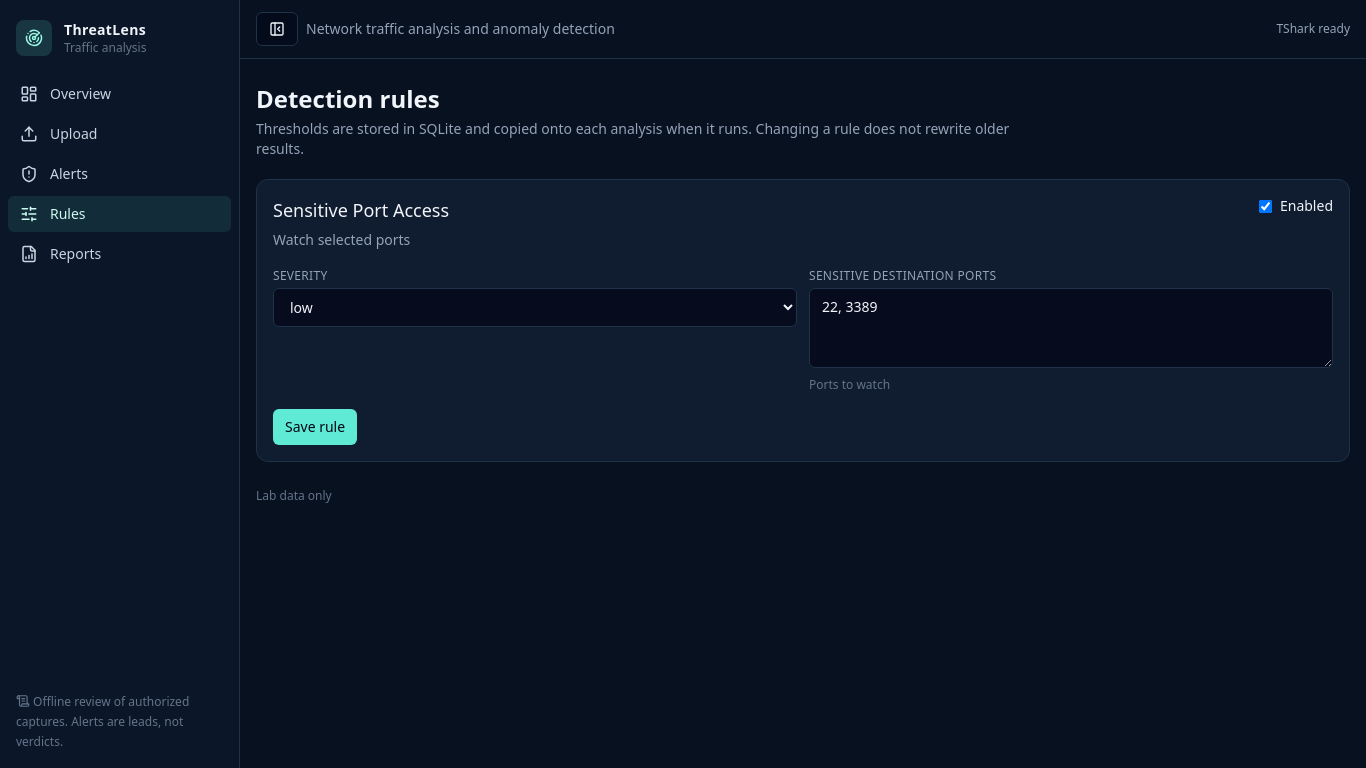
it: evidence and configuration › validates a watchlist before PATCH and saves normalized rule edits
Step 1. Replace the text in the text box labelled "Sensitive destination ports Ports to watch" with "0, 70000" → (1071, 328), box 809,288 -> 1333,368
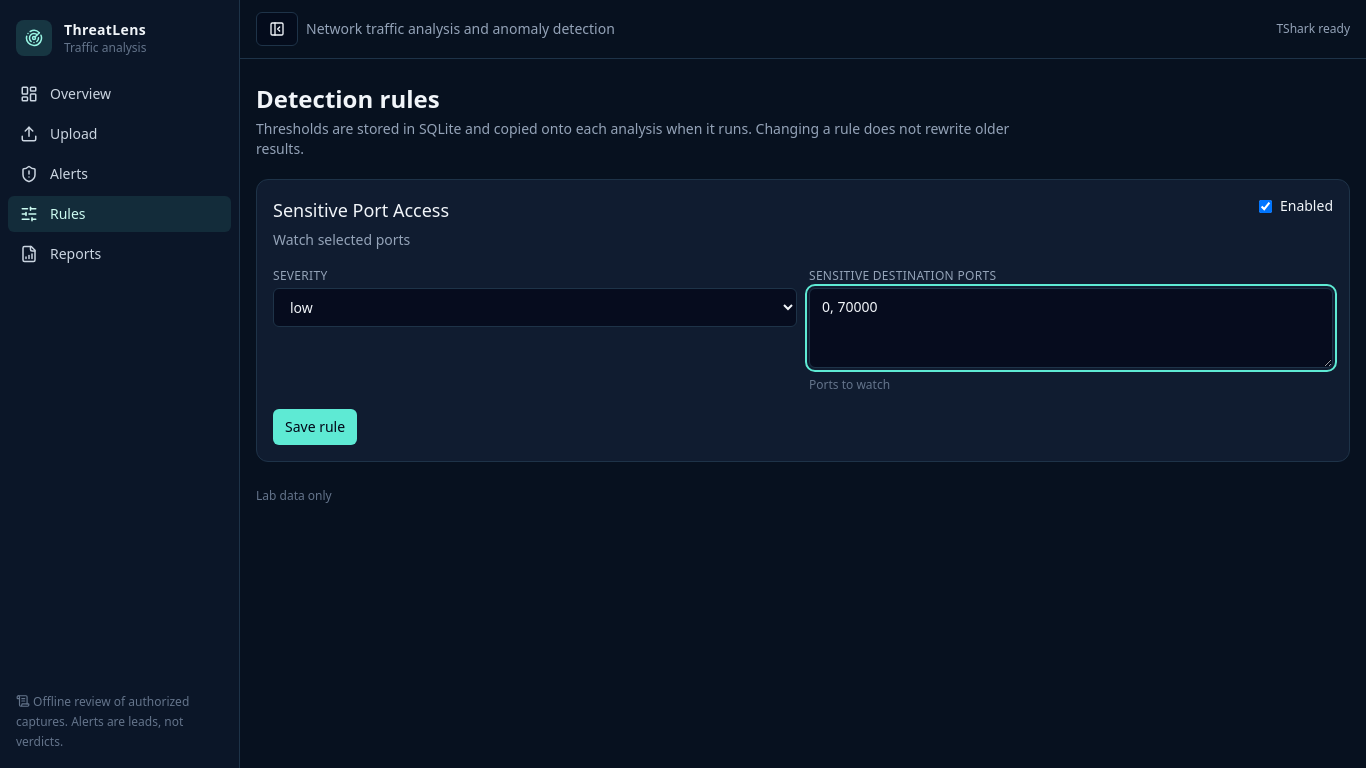
Step 2. Click the button "Save rule" → (315, 427), box 273,409 -> 357,445
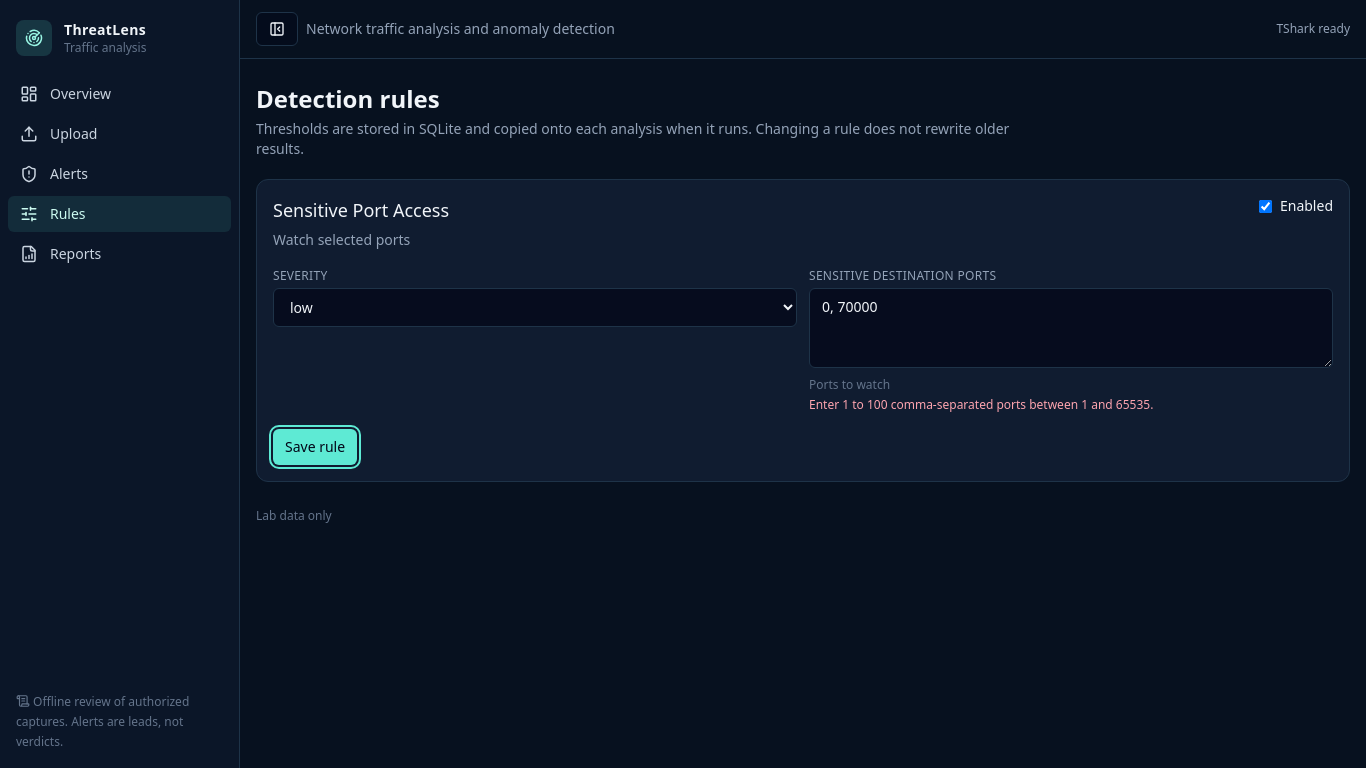
Expected: the text "Enter 1 to 100 comma-separated ports between 1 and 65535." is shown, 809,396 -> 1153,413
Step 3. Replace the text in the text box labelled "Sensitive destination ports" with "22, 443, 22" → (1071, 328), box 809,288 -> 1333,368
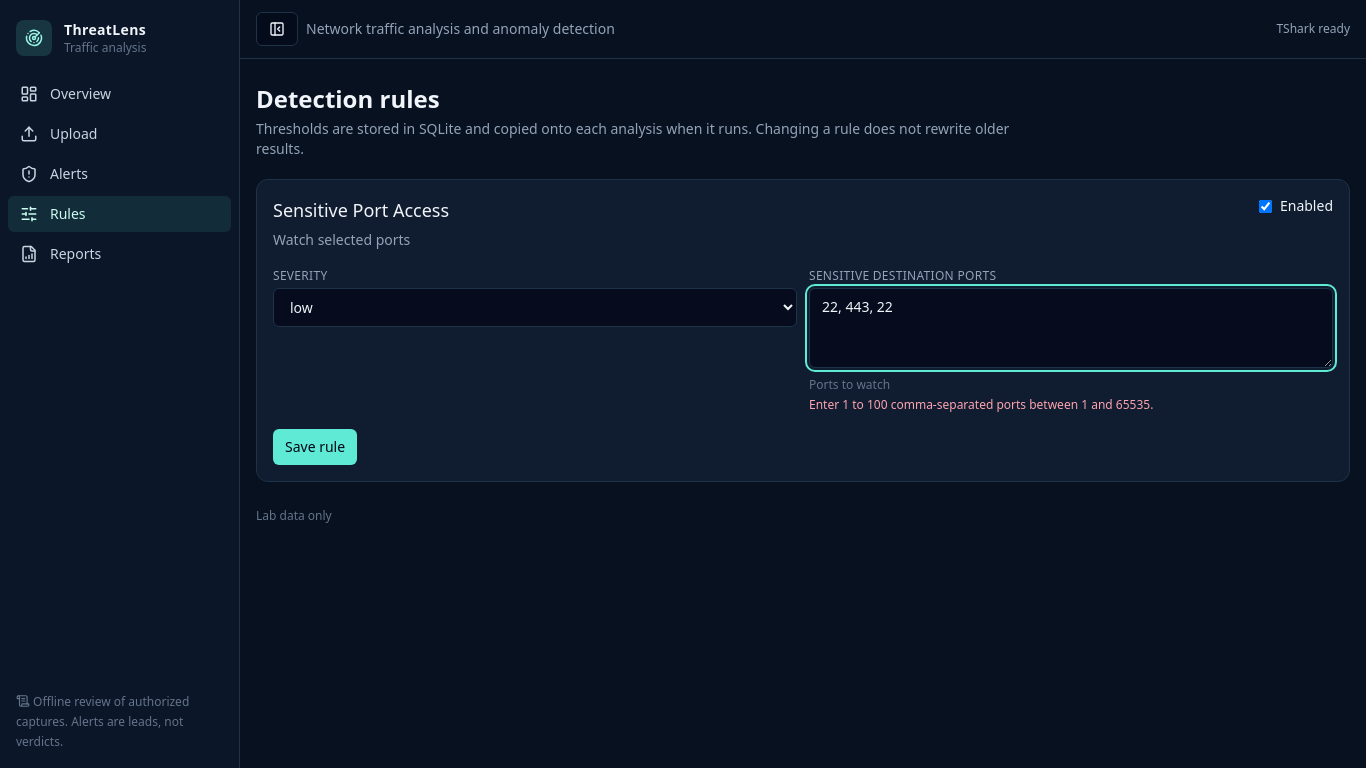
Step 4. Select "high" in the dropdown labelled "Severity" → (535, 308), box 273,288 -> 797,327
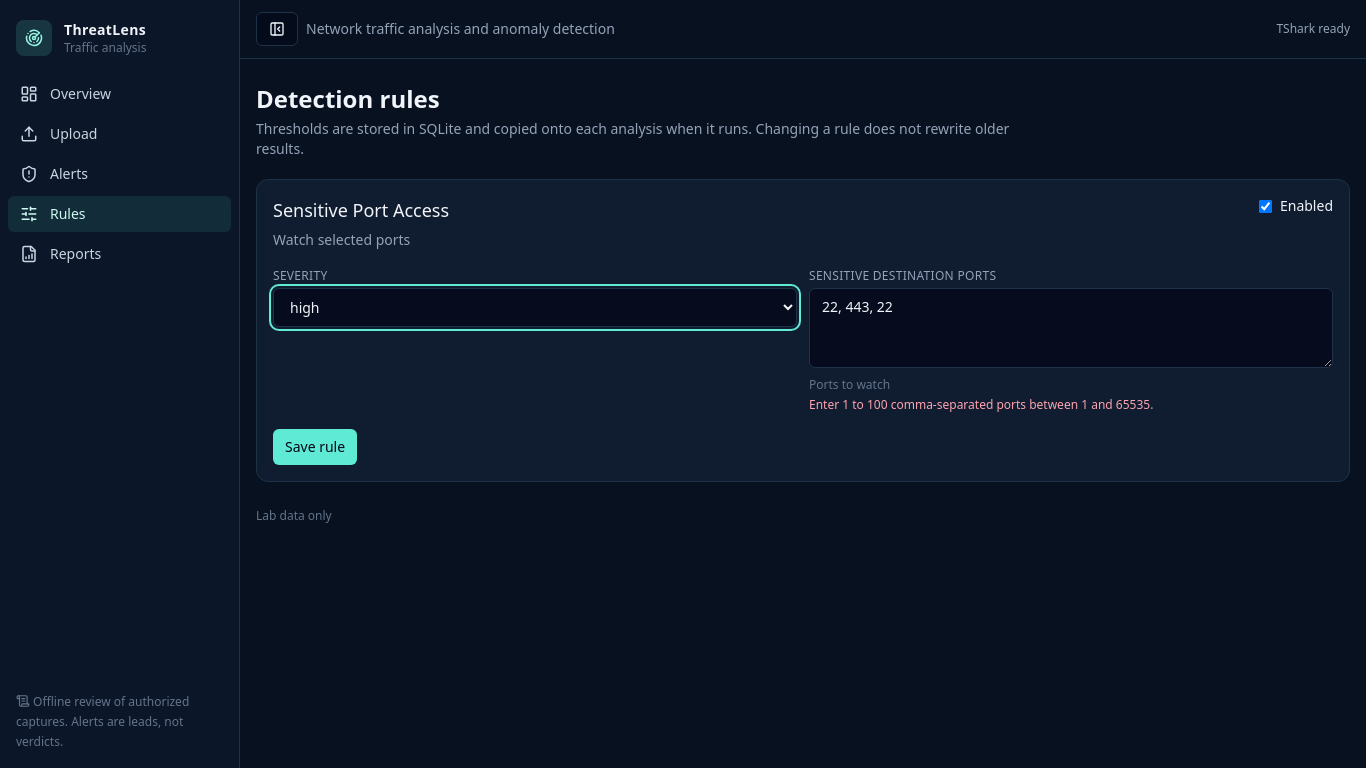
Step 5. Click the checkbox labelled "Enabled" → (1266, 206), box 1259,200 -> 1272,212
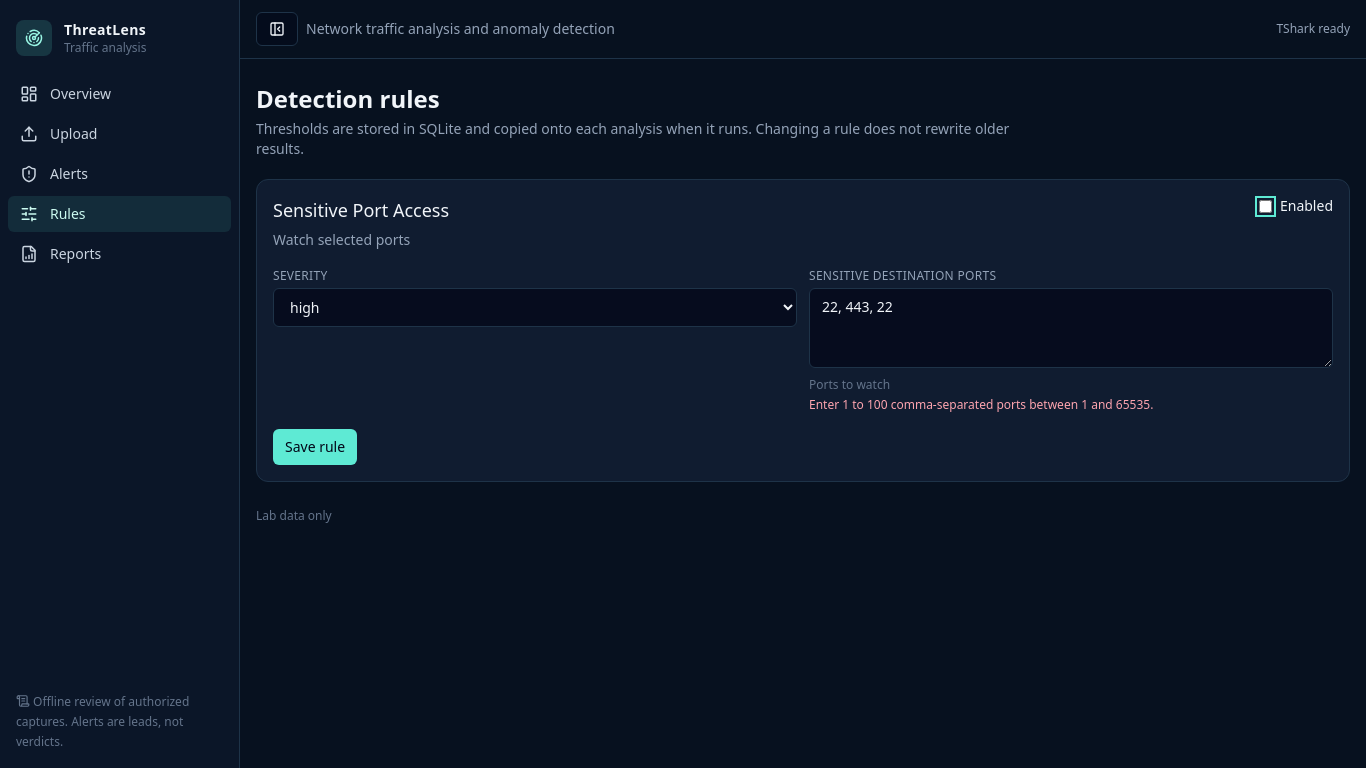
Step 6. Click the button "Save rule" → (315, 447), box 273,429 -> 357,465
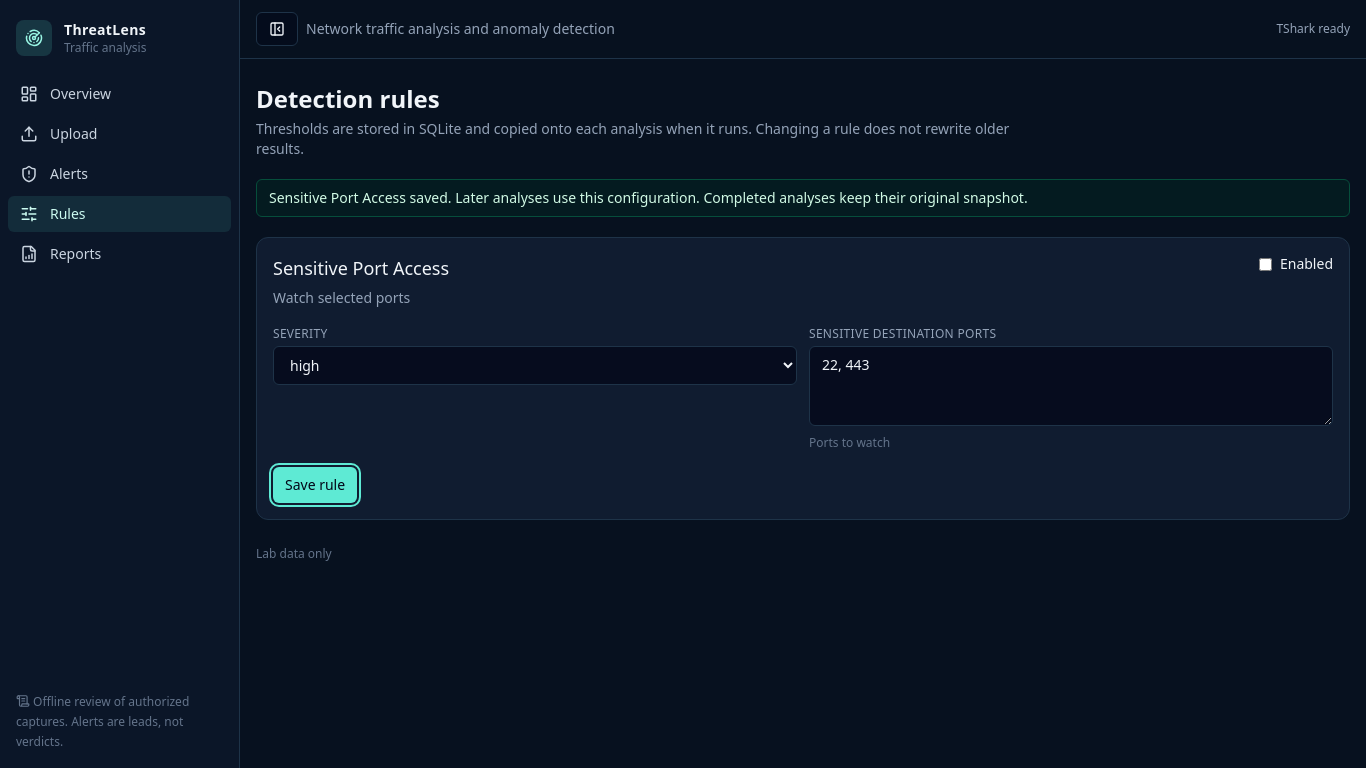
Expected: the text "Later analyses use this configuration" is shown, 269,188 -> 1028,207
